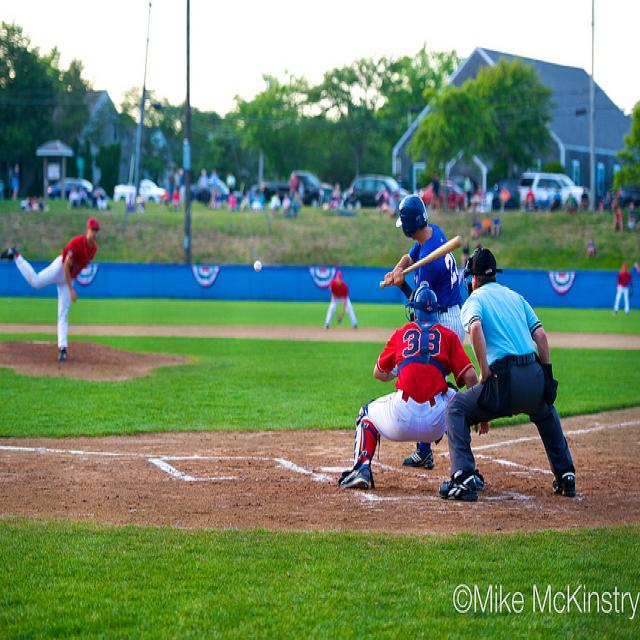Vehicle: (517, 172, 584, 214), (340, 174, 410, 210), (262, 171, 334, 206), (113, 178, 168, 208), (418, 178, 466, 212), (191, 177, 232, 208), (48, 178, 94, 200), (492, 179, 522, 208)
